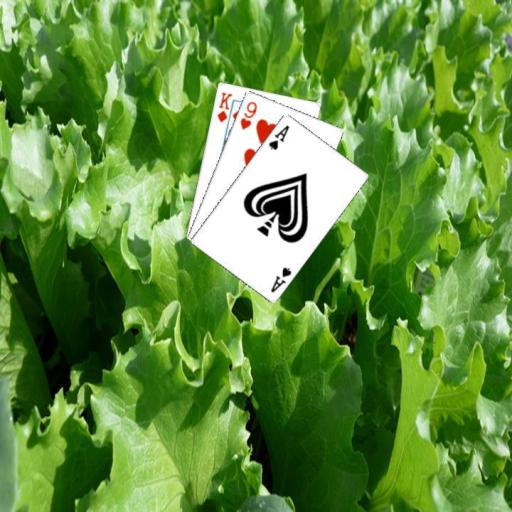9H: (237, 98, 258, 131)
AS: (267, 263, 293, 294), (265, 122, 291, 152)
KD: (214, 89, 233, 124)
